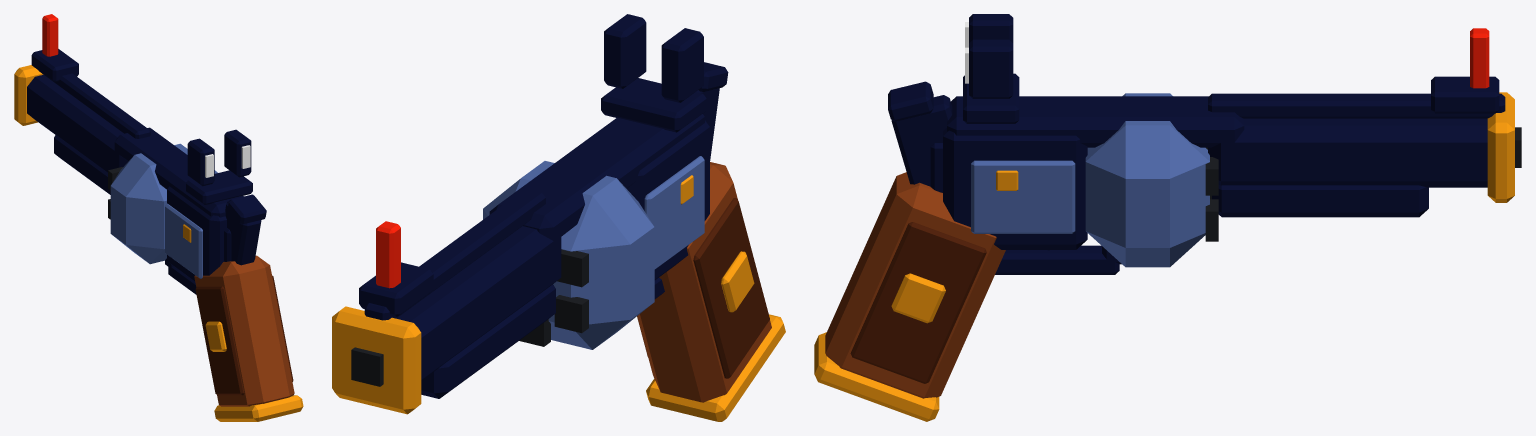
Rendered from Python_Revolver.fbx.
The picture shows the model from 3 angles, left to right: view 1: azimuth 30°, elevation 25°; view 2: azimuth 150°, elevation 25°; view 3: azimuth 270°, elevation 25°; orthographic projection. The views are drawn at different scales.
Parts seen in each view (by area): view 1: Python_Revolver; view 2: Python_Revolver; view 3: Python_Revolver.
Part boxes in pixels (bbox=[...]): Python_Revolver: bbox=[14, 14, 303, 421]; Python_Revolver: bbox=[332, 14, 785, 421]; Python_Revolver: bbox=[814, 14, 1521, 421].
Bounding box in the file's own units: 195 × 517 × 880.
